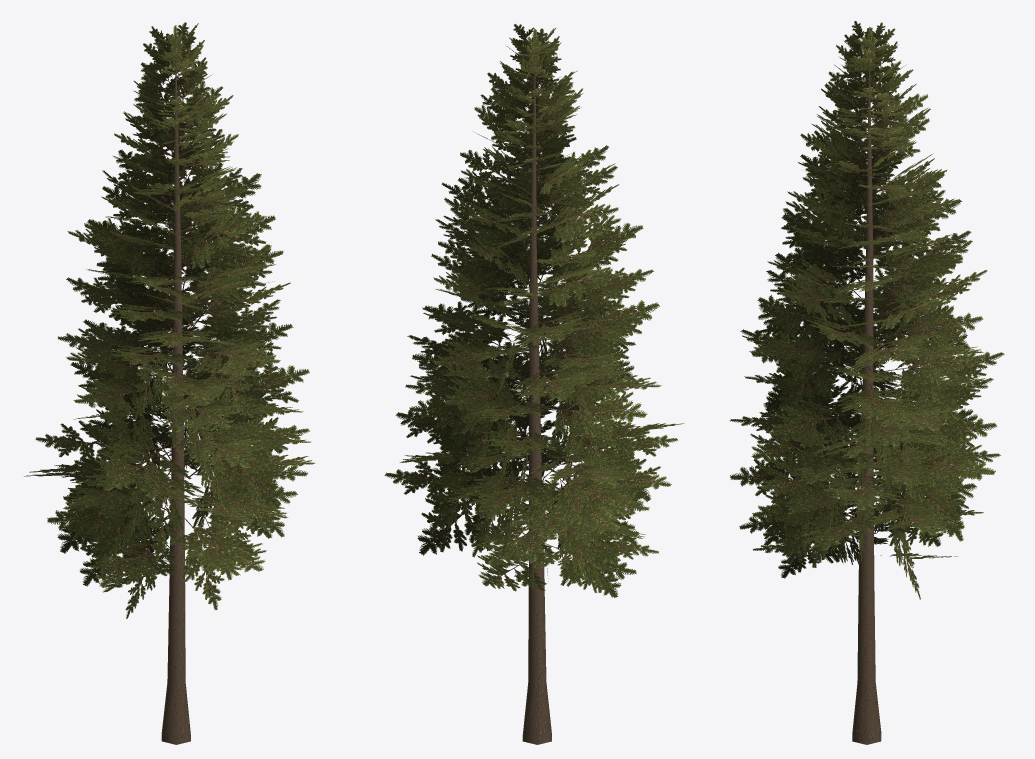
Rendered from fir_tall_a_lod3.gltf.
The picture shows the model from 3 angles, left to right: view 1: azimuth 30°, elevation 25°; view 2: azimuth 150°, elevation 25°; view 3: azimuth 270°, elevation 25°; orthographic projection.
Parts seen in each view (by area): view 1: fir_tall_a_LOD3; view 2: fir_tall_a_LOD3; view 3: fir_tall_a_LOD3.
Part boxes in pixels (x1,y1,x2,y2): fir_tall_a_LOD3: (24, 22, 315, 744); fir_tall_a_LOD3: (384, 24, 684, 744); fir_tall_a_LOD3: (730, 21, 1004, 744).
Size of the model in its own units: 12.41 by 30.59 by 11.68.
2 materials, 2 textured.
